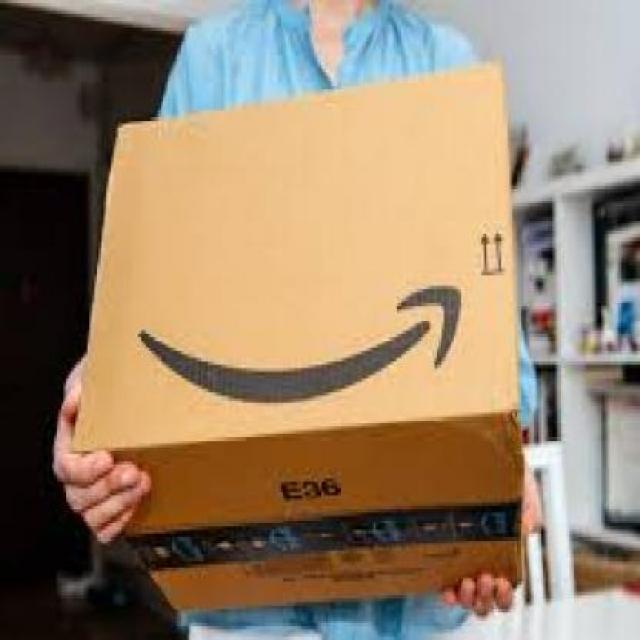box: (73, 51, 533, 614)
